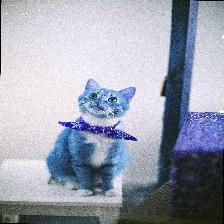kedo: (47, 79, 135, 196)
